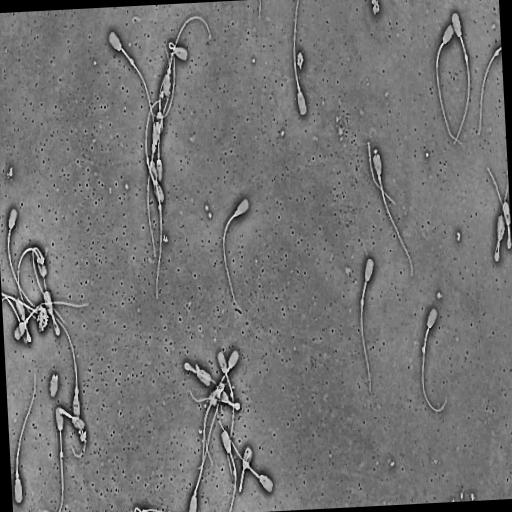coiled-tail: (239, 448, 251, 493)
dirt-particles: (35, 304, 48, 334), (371, 0, 381, 17), (78, 429, 87, 444), (7, 163, 14, 179), (297, 52, 303, 70)
distal-droplet: (464, 54, 469, 62), (60, 451, 64, 459), (233, 469, 237, 477), (158, 203, 162, 211), (246, 462, 250, 469), (361, 299, 364, 307), (146, 157, 149, 165), (130, 59, 133, 66)
folded-tail: (184, 363, 223, 415), (488, 169, 511, 249), (17, 248, 41, 324), (155, 42, 175, 120), (42, 250, 60, 335), (3, 296, 31, 342), (495, 185, 508, 262), (52, 315, 58, 332), (186, 365, 194, 370), (496, 244, 498, 260), (509, 234, 510, 247)
loose-head: (49, 372, 59, 399)
loose-tail: (367, 140, 397, 206)
normal: (107, 30, 157, 146), (215, 402, 273, 493), (373, 155, 414, 279), (204, 349, 240, 467), (162, 16, 211, 98), (48, 309, 81, 421), (435, 24, 462, 146), (222, 197, 250, 313), (7, 207, 38, 309), (13, 371, 36, 505), (188, 395, 214, 512), (14, 301, 88, 342), (152, 41, 189, 119), (421, 307, 448, 413), (145, 95, 169, 204), (451, 11, 470, 147), (217, 350, 235, 484), (183, 360, 224, 417), (17, 247, 47, 323), (486, 165, 512, 250), (156, 48, 172, 182), (146, 122, 161, 260), (360, 257, 375, 393), (149, 160, 163, 301), (293, 0, 309, 118), (42, 249, 61, 338), (220, 429, 238, 512), (58, 408, 87, 459), (493, 179, 509, 264), (2, 296, 31, 342), (54, 405, 65, 512)
proximal-droplet: (152, 143, 156, 153), (75, 386, 79, 395), (297, 85, 301, 91), (235, 210, 239, 216), (16, 472, 19, 479), (167, 68, 170, 75), (25, 318, 28, 324), (378, 175, 381, 181), (194, 491, 197, 496)
